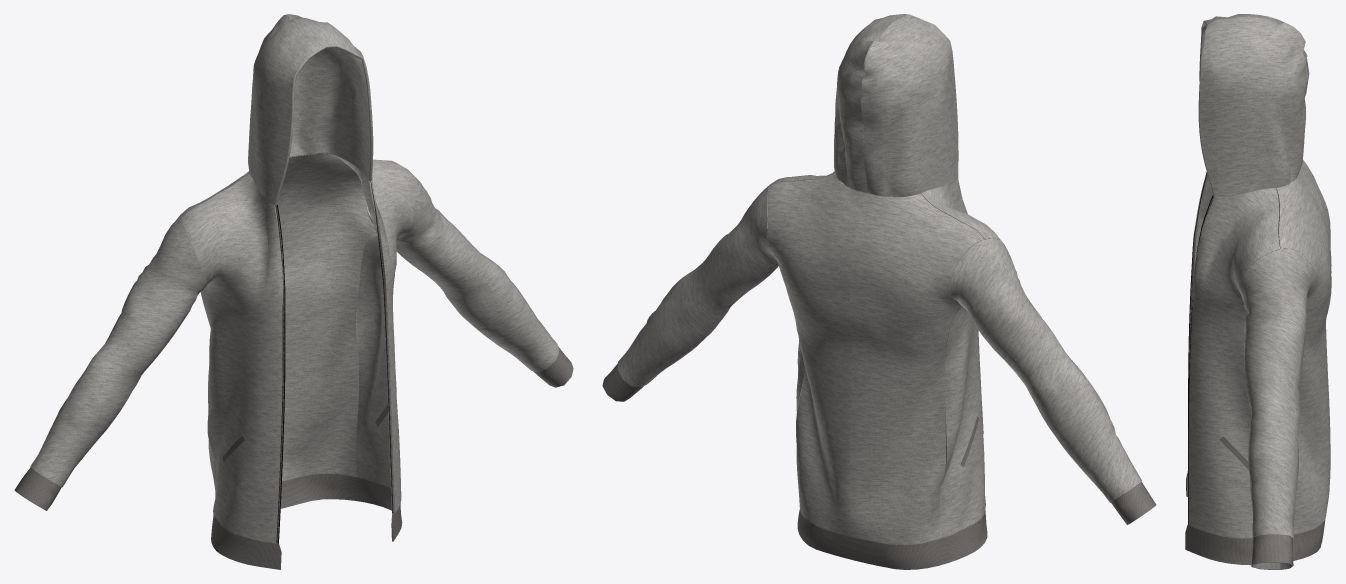
Rendered from hoodie.glb.
3 renders of one model, left to right at view 1: azimuth 30°, elevation 25°; view 2: azimuth 150°, elevation 25°; view 3: azimuth 270°, elevation 25°, orthographic.
Visible parts, largest first — view 1: Hoodie; view 2: Hoodie; view 3: Hoodie.
Boxes of the visible parts, box(x1,y1,x2,y2) form: Hoodie: box(14, 14, 573, 569); Hoodie: box(602, 14, 1156, 569); Hoodie: box(1185, 14, 1331, 569).
Size of the model in its own units: 2.06 by 1.85 by 0.478.
3 materials, 3 textured.
